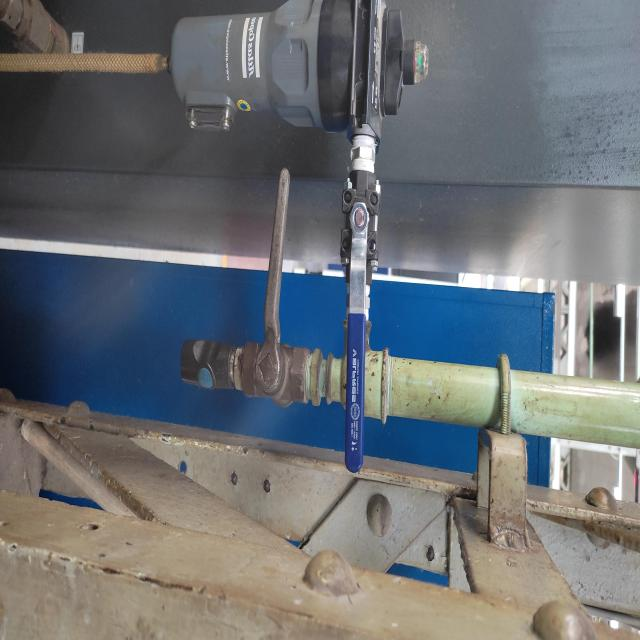closed_valve: (241, 162, 312, 412)
opened_valve: (337, 164, 381, 476)
